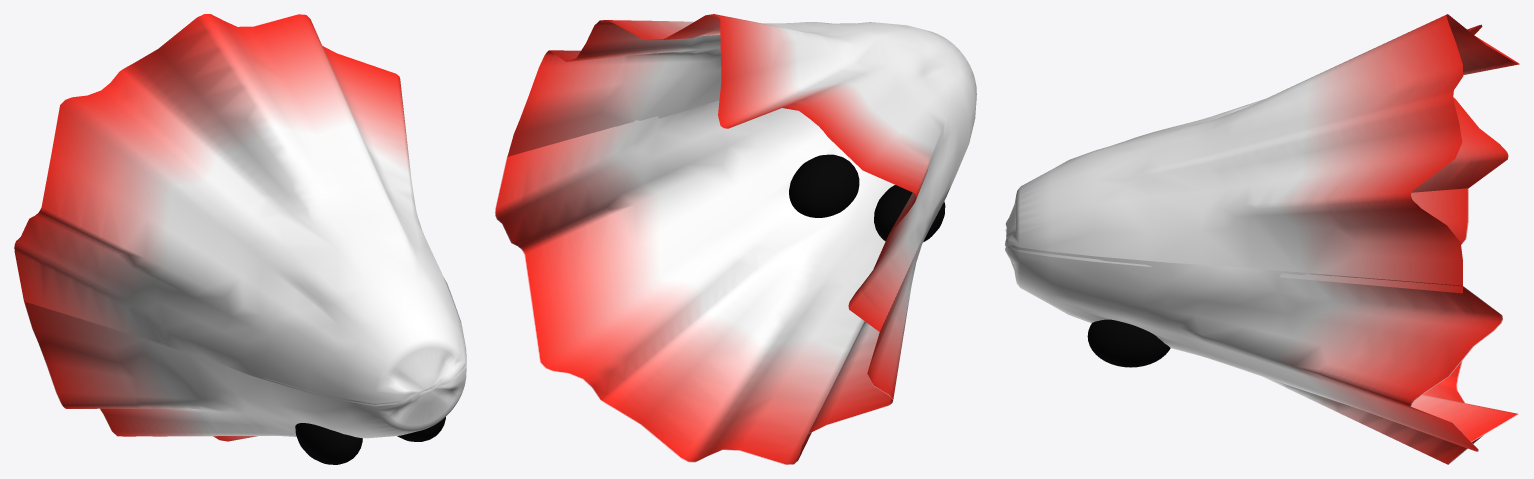
The model's file is ghost3.dae.
3 views of the same model, side by side, from view 1: azimuth 30°, elevation 25°; view 2: azimuth 150°, elevation 25°; view 3: azimuth 270°, elevation 25° (orthographic). The views are drawn at different scales.
Parts seen in each view (by area): view 1: nurbsToPoly3, nurbsToPoly2, pSphere2, pSphere3; view 2: nurbsToPoly2, nurbsToPoly3, pSphere3, pSphere2; view 3: nurbsToPoly3, nurbsToPoly2, pSphere3.
Boxes of the visible parts, left/top/right/bottom form: nurbsToPoly3: left=14, top=14, right=466, bottom=406; nurbsToPoly2: left=24, top=276, right=466, bottom=441; pSphere2: left=295, top=423, right=362, bottom=464; pSphere3: left=397, top=417, right=445, bottom=441; nurbsToPoly2: left=495, top=100, right=976, bottom=464; nurbsToPoly3: left=507, top=14, right=976, bottom=331; pSphere3: left=789, top=154, right=859, bottom=217; pSphere2: left=874, top=185, right=945, bottom=241; nurbsToPoly3: left=1005, top=14, right=1519, bottom=293; nurbsToPoly2: left=1005, top=188, right=1518, bottom=464; pSphere3: left=1087, top=319, right=1170, bottom=367.
Size of the model in its own units: 0.9218 by 1.01 by 1.08.
Materials: 2 (2 with a texture image).
